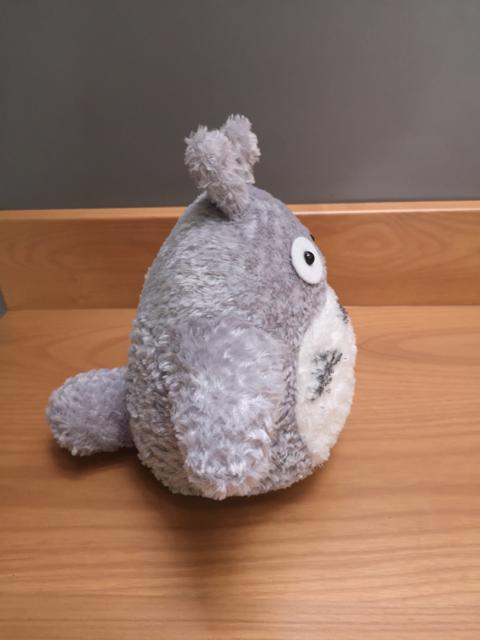totoro: (45, 110, 360, 513)
